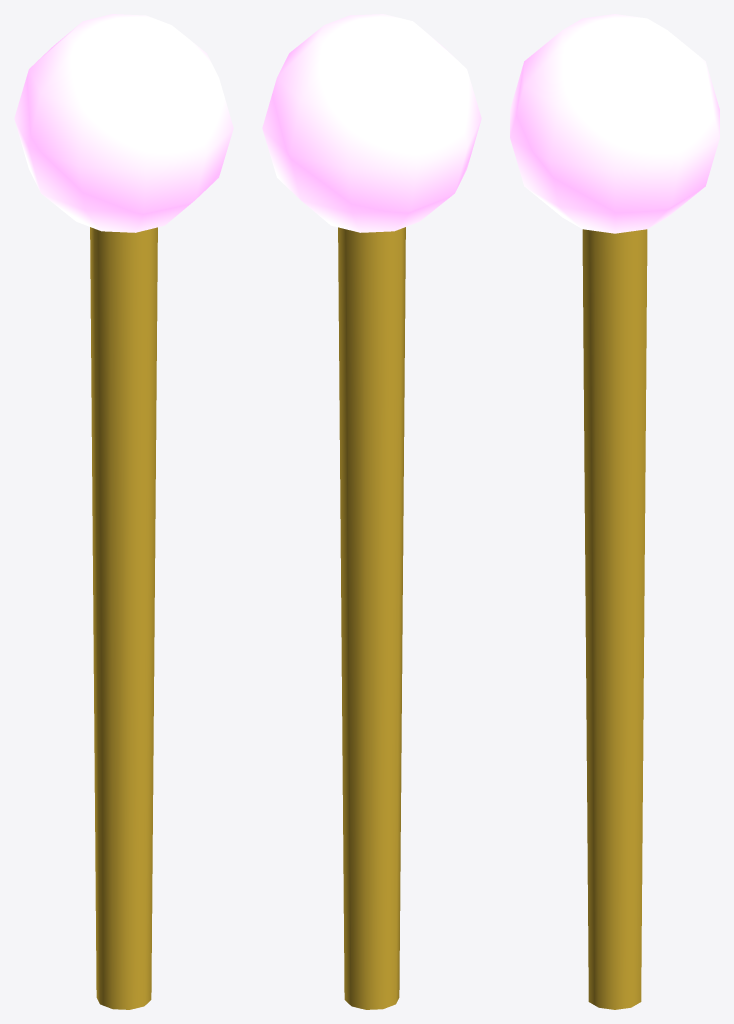
The model's file is weapon_scepter.glb.
3 renders of one model, left to right at view 1: azimuth 30°, elevation 25°; view 2: azimuth 150°, elevation 25°; view 3: azimuth 270°, elevation 25°, orthographic.
Visible parts, largest first — view 1: scepter_rod, scepter_orb; view 2: scepter_rod, scepter_orb; view 3: scepter_rod, scepter_orb.
Part boxes in pixels (x1=…): scepter_rod: x1=90, y1=227, x2=157, y2=1009; scepter_orb: x1=14, y1=14, x2=233, y2=232; scepter_rod: x1=338, y1=227, x2=405, y2=1009; scepter_orb: x1=262, y1=14, x2=481, y2=232; scepter_rod: x1=582, y1=229, x2=647, y2=1009; scepter_orb: x1=510, y1=14, x2=719, y2=233.
Size of the model in its own units: 0.32 by 1.56 by 0.3043.
